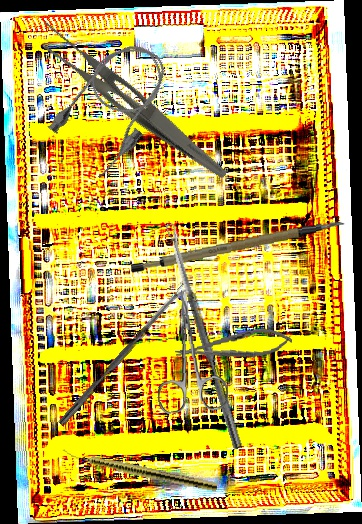Cannula: (41, 28, 187, 184)
Dressing Forceps: (26, 18, 243, 181)
Handpiece: (60, 447, 219, 493)
Iris Scissors: (150, 287, 230, 415)
Needle Holder: (173, 323, 294, 368)
Scalpel Handle: (128, 219, 348, 277)
Surgical Spoon: (57, 282, 190, 428), (165, 222, 244, 450)
